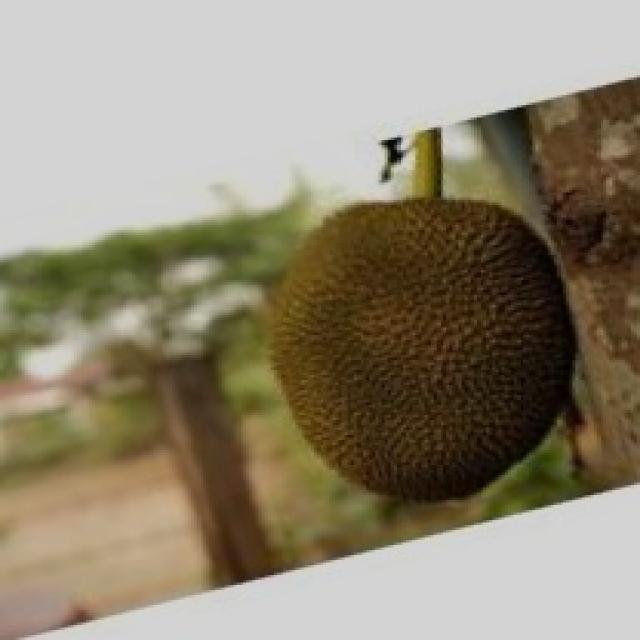Fruit: (237, 170, 603, 532)
